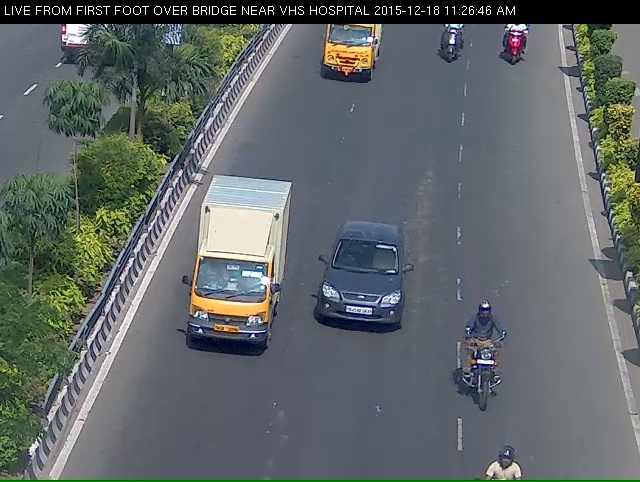Car: (174, 178, 284, 390), (311, 233, 406, 351), (313, 22, 381, 85)
Person: (463, 310, 519, 420), (496, 24, 542, 79), (432, 21, 470, 69)
